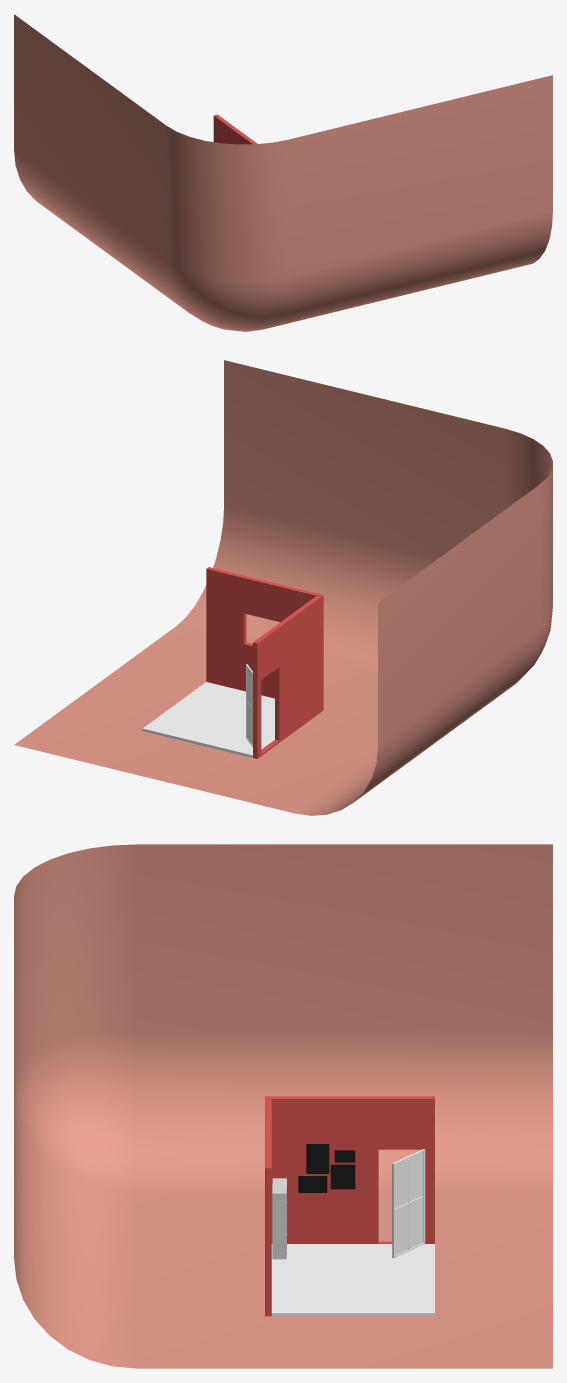
Rendered from quantum_room1.glb.
3 renders of one model, top to bottom at view 1: azimuth 30°, elevation 25°; view 2: azimuth 150°, elevation 25°; view 3: azimuth 270°, elevation 25°, orthographic. The views are drawn at different scales.
Parts seen in each view (by area): view 1: background; view 2: background; view 3: background, tunneling, postulate1, postulate3.
Boxes of the visible parts, <box> form: background: <box>14,14,552,331</box>; background: <box>14,360,552,815</box>; background: <box>14,844,552,1368</box>; tunneling: <box>392,1149,424,1258</box>; postulate1: <box>306,1144,329,1173</box>; postulate3: <box>330,1164,355,1189</box>.
Bounding box in the file's own units: 32.36 × 19.63 × 32.36.
